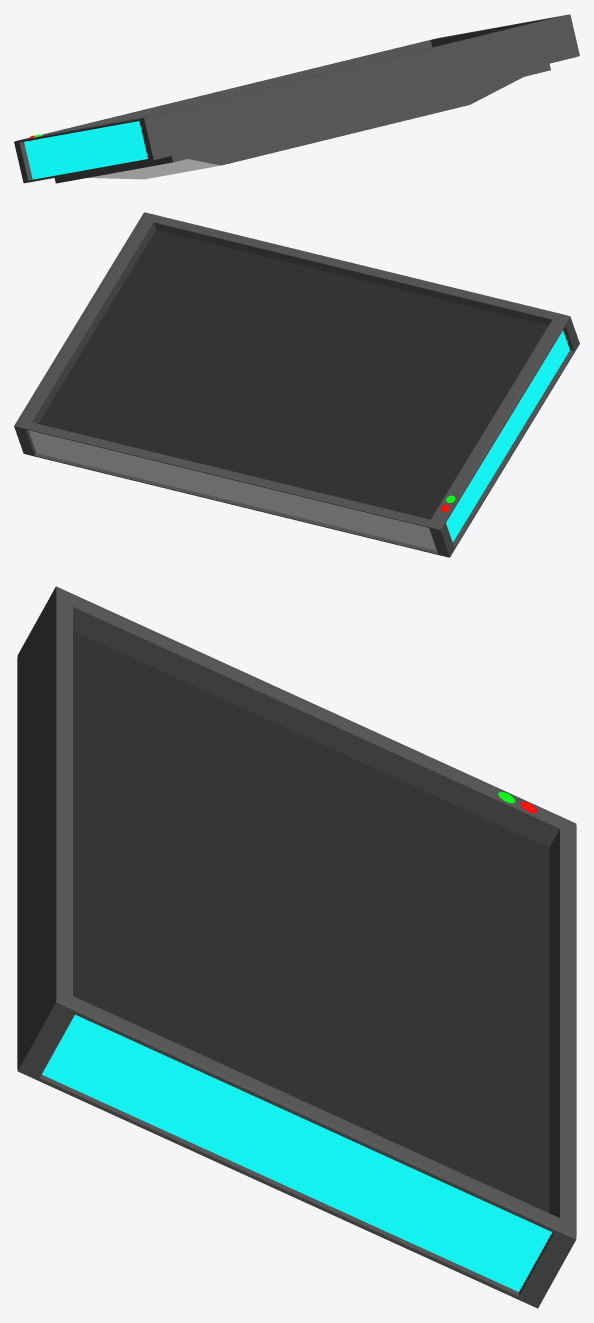
File: TABLETA.glb
The picture shows the model from 3 angles, top to bottom: view 1: azimuth 30°, elevation 25°; view 2: azimuth 150°, elevation 25°; view 3: azimuth 270°, elevation 25°; orthographic projection. The views are drawn at different scales.
Parts seen in each view (by area): view 1: Cube; view 2: Cube; view 3: Cube.
Part boxes in pixels (left/top/right/bottom): Cube: left=14, top=14, right=579, bottom=183; Cube: left=14, top=212, right=579, bottom=557; Cube: left=17, top=586, right=576, bottom=1308.
Bounding box in the file's own units: 1.93 × 0.6654 × 1.1.
